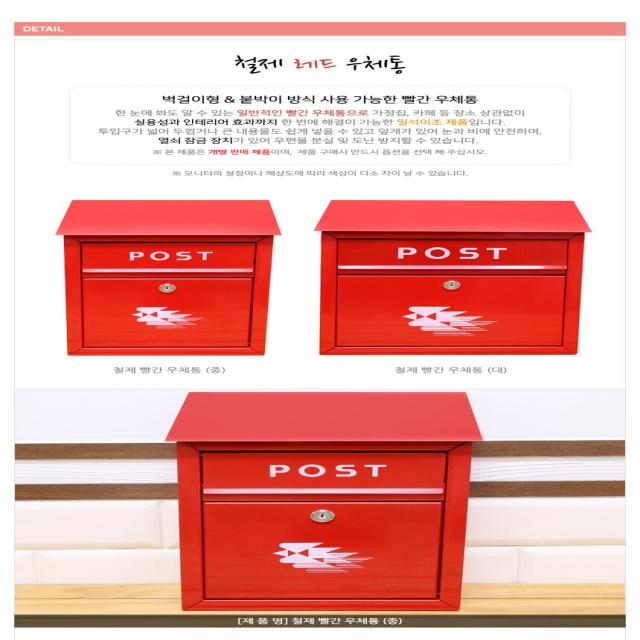Post Box: (162, 391, 486, 614), (312, 196, 596, 356), (52, 197, 278, 359)
